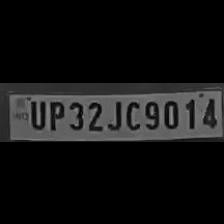0: (160, 97, 180, 129)
1: (180, 96, 198, 128)
2: (84, 96, 104, 132)
3: (64, 97, 84, 131)
4: (198, 94, 218, 128)
9: (142, 96, 160, 130)
C: (123, 96, 141, 130)
J: (104, 97, 122, 131)
P: (46, 97, 64, 131)
U: (27, 97, 46, 129)
